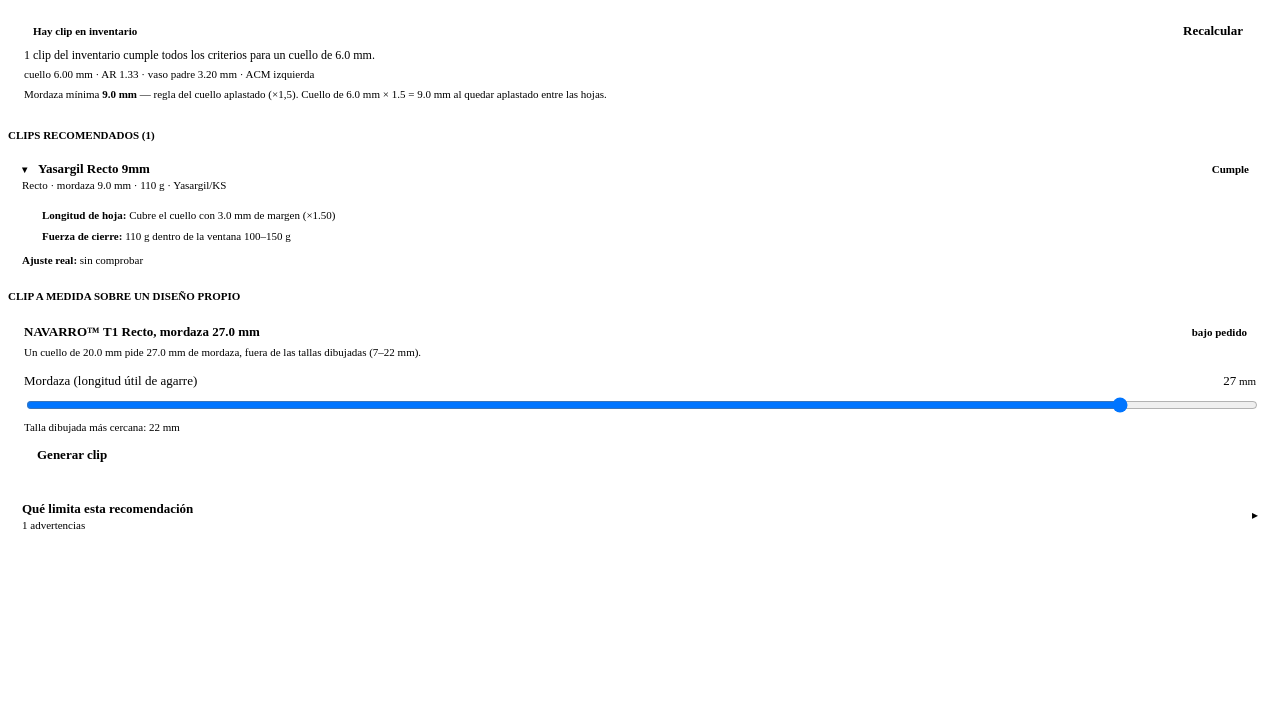
Test: sizing a made-to-order clip › lets the jaw be set by hand as well
Set the slider to "18.5": (751, 405) left=26, top=397, right=1258, bottom=413
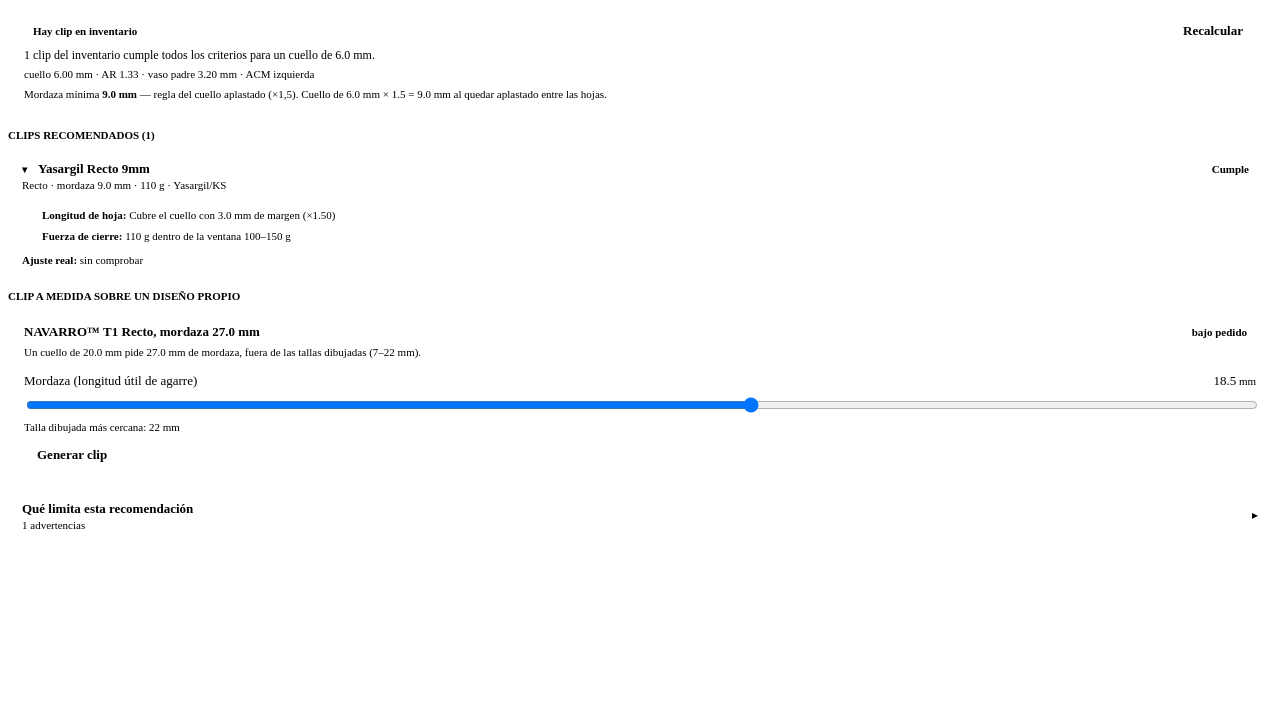
Expected: the text "18.5" is shown, left=1213, top=373, right=1236, bottom=388
